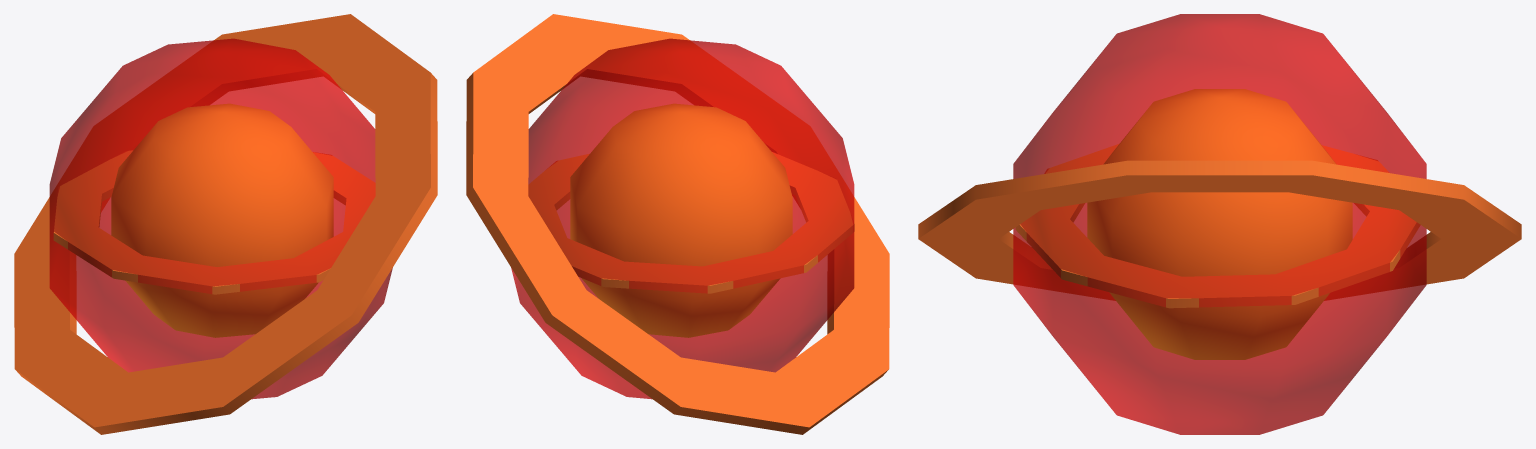
The model's file is Enemy_Attack3.obj.
3 renders of one model, left to right at view 1: azimuth 30°, elevation 25°; view 2: azimuth 150°, elevation 25°; view 3: azimuth 270°, elevation 25°, orthographic. The views are drawn at different scales.
Parts seen in each view (by area): view 1: Sphere002, Tube001, Sphere001, Tube002; view 2: Sphere002, Tube001, Sphere001, Tube002; view 3: Sphere002, Sphere001, Tube001, Tube002.
Part boxes in pixels (left/top/right/bottom): Sphere002: left=49, top=38, right=392, bottom=399; Tube001: left=14, top=14, right=437, bottom=434; Sphere001: left=111, top=103, right=333, bottom=337; Tube002: left=53, top=150, right=375, bottom=294; Sphere002: left=511, top=38, right=854, bottom=399; Tube001: left=466, top=14, right=889, bottom=434; Sphere001: left=570, top=103, right=792, bottom=337; Tube002: left=528, top=152, right=854, bottom=293; Sphere002: left=1013, top=14, right=1426, bottom=434; Sphere001: left=1087, top=89, right=1352, bottom=359; Tube001: left=918, top=160, right=1521, bottom=300; Tube002: left=1015, top=144, right=1420, bottom=308.
Bounding box in the file's own units: 24.32 × 22.83 × 31.73.
